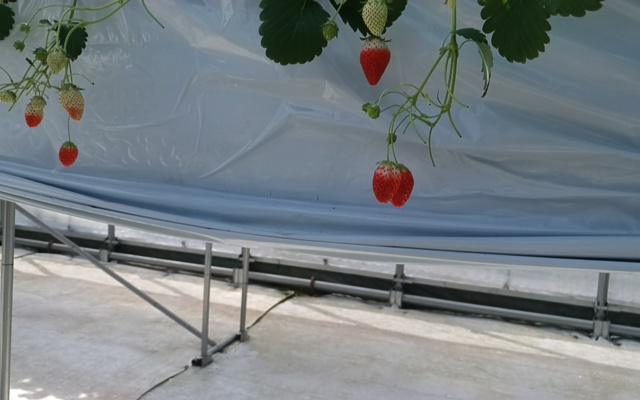GreenStrawberry: (57, 84, 88, 124), (362, 1, 391, 38), (23, 94, 45, 129), (45, 46, 70, 76), (322, 20, 341, 42)
MatureStrawberry: (357, 34, 390, 87), (371, 157, 400, 206), (391, 163, 415, 211), (58, 140, 78, 169)
